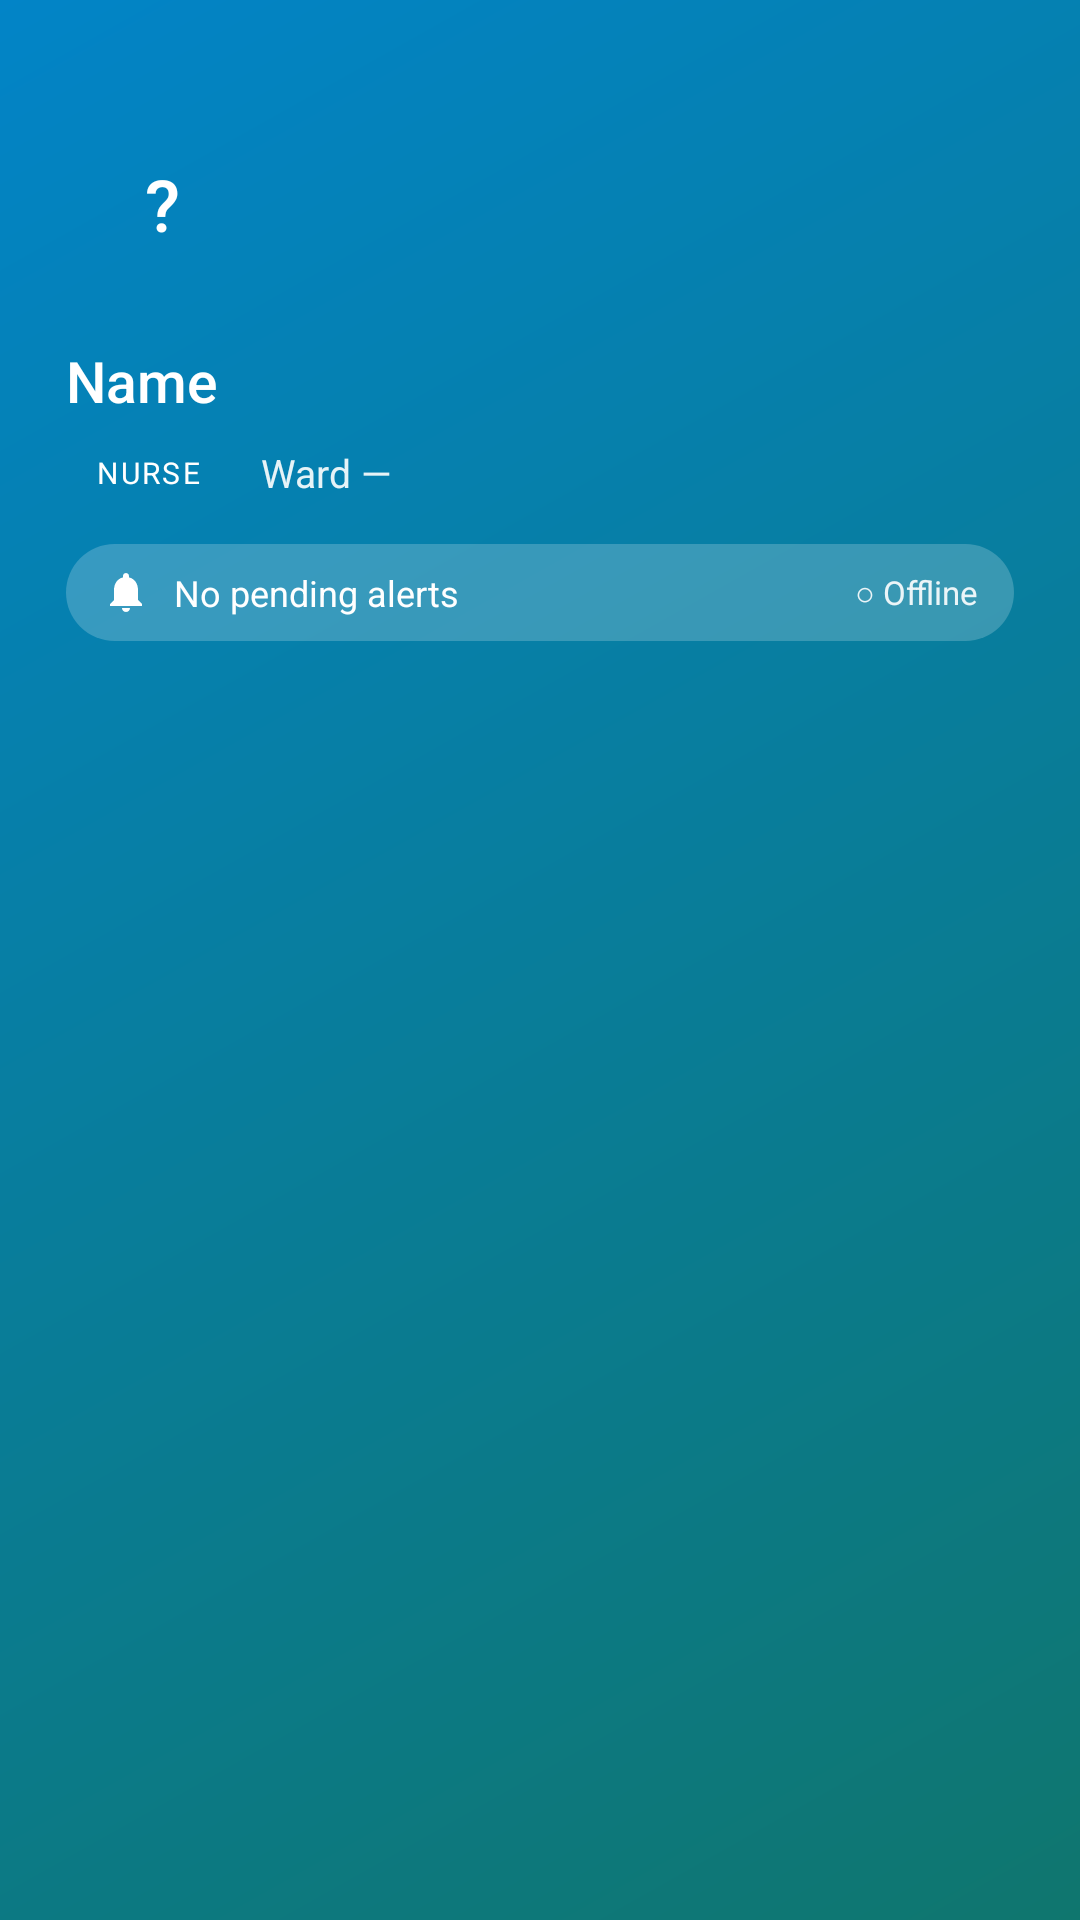

Icon click points for this 1080px×1920px phone screenshot, format (x=x, y=y):
bell: (x=126, y=592)
